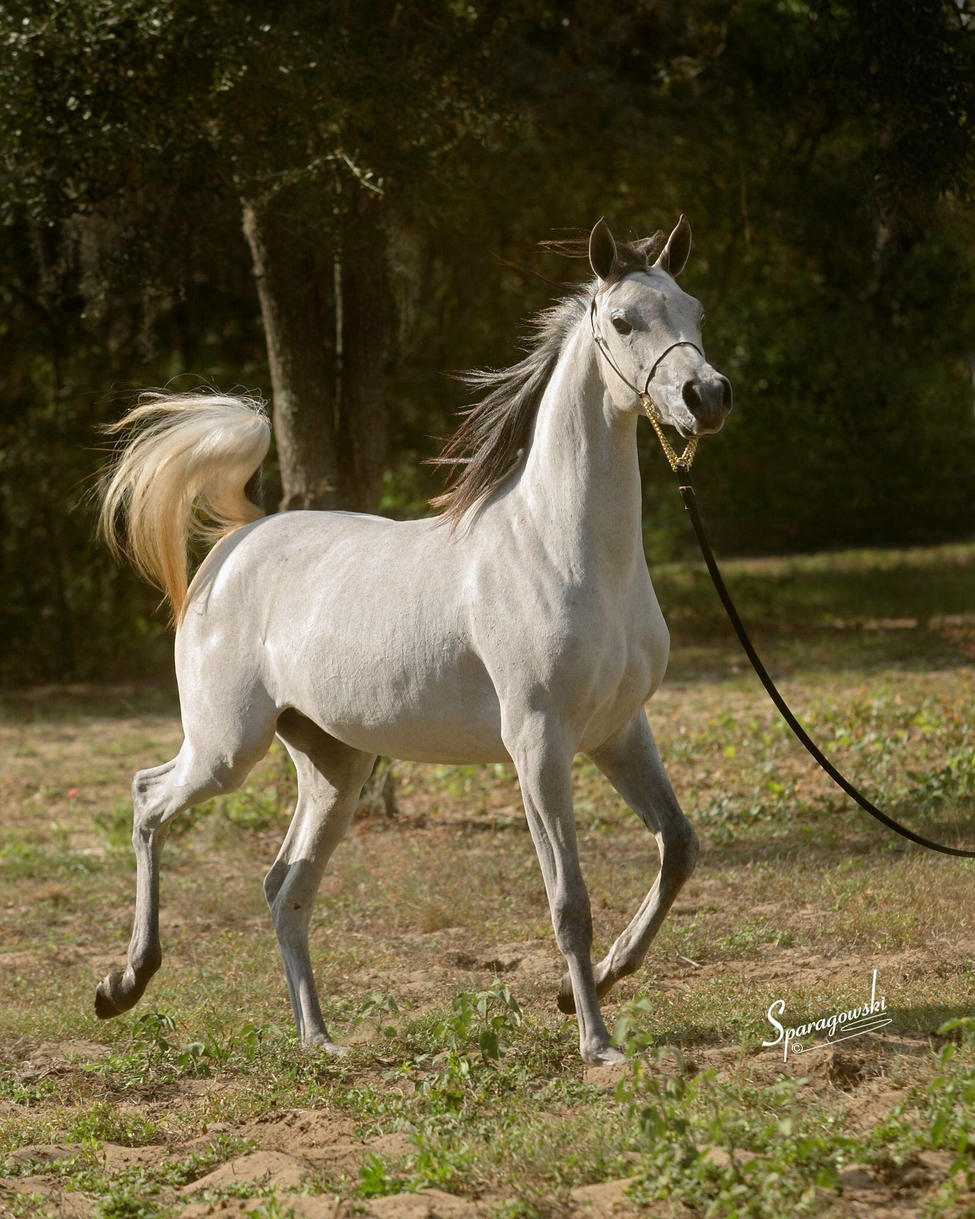horse: (60, 189, 753, 1079)
